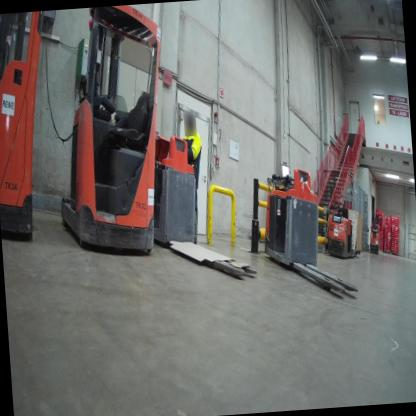forklift: (51, 5, 181, 271), (0, 12, 64, 255)
pallet: (383, 248, 393, 257), (391, 251, 400, 259)
pallet_truck: (139, 113, 261, 289), (259, 157, 356, 300), (322, 191, 362, 265), (368, 221, 385, 258)
